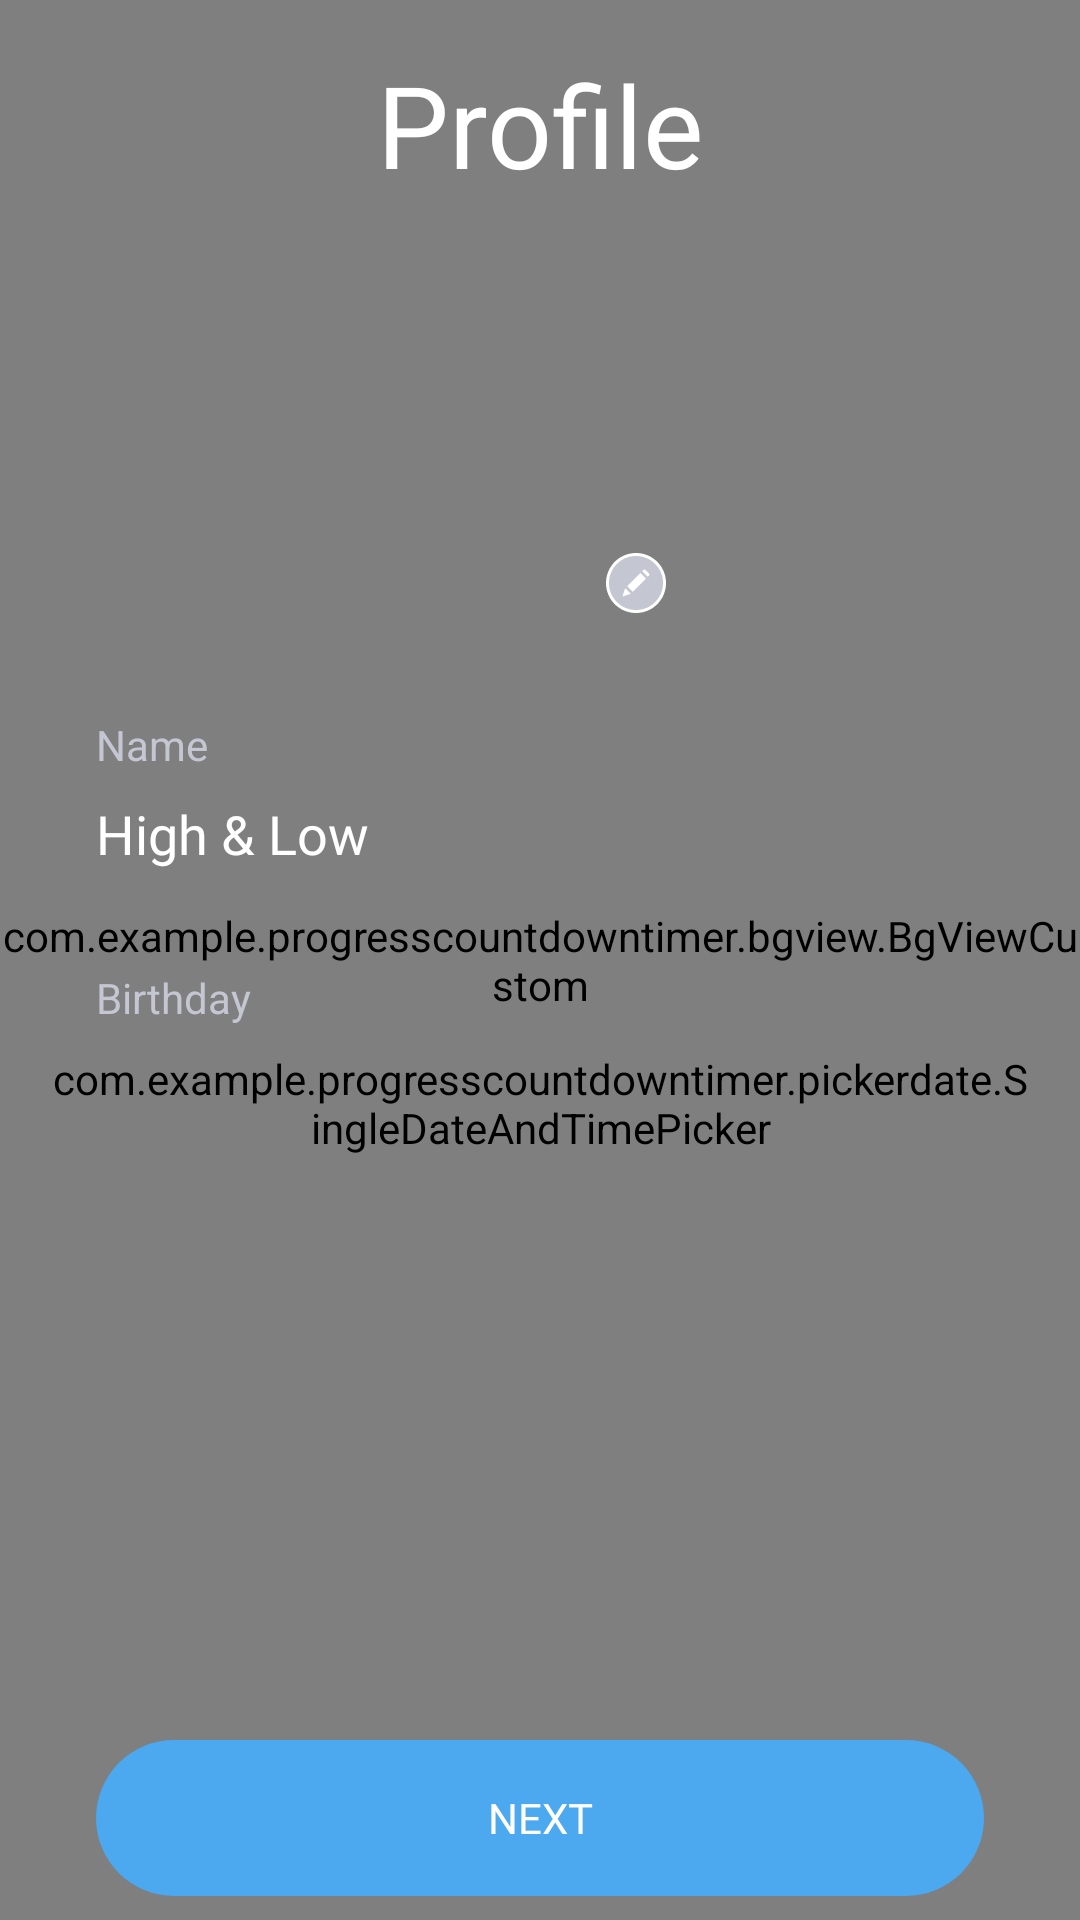

Named icons in this screenshot (1080px x 1920px) and their centers, (x,y):
profile edit: (636,583)
